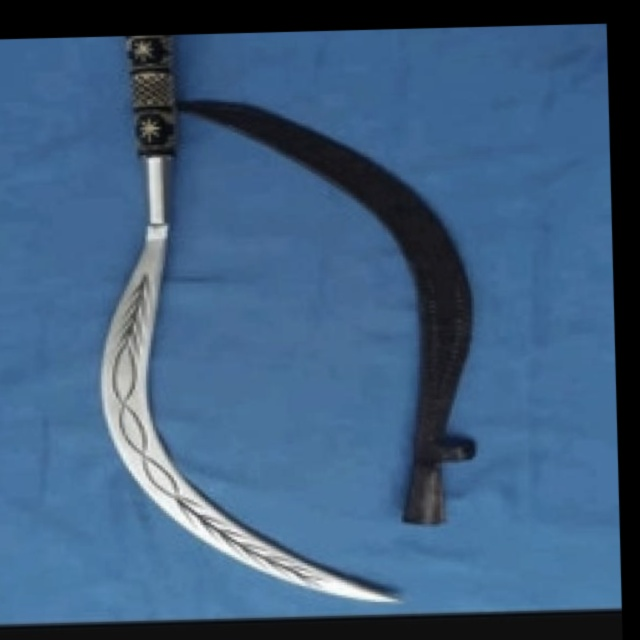Sharp-Object: (87, 35, 398, 619)
